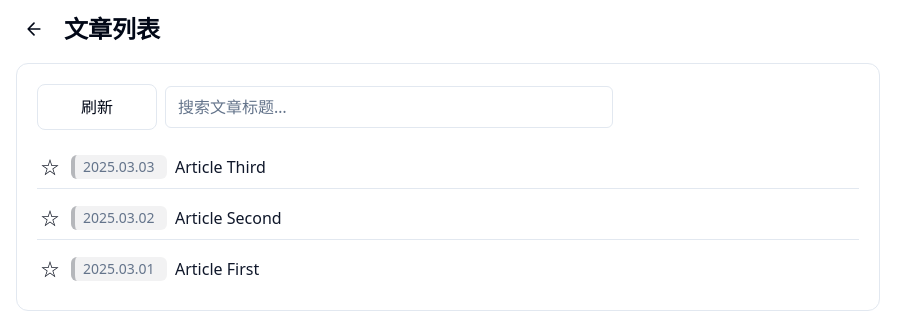
it: Article list interaction (S010) › Search filter (S021) › empty search shows all articles
The image size is (897, 328).
Expected: the link "Article First" is shown, [175,258,259,280]
In the search field labelled "搜索文章标题…": coordinates (389, 107) [165,86,613,128], type "Third"
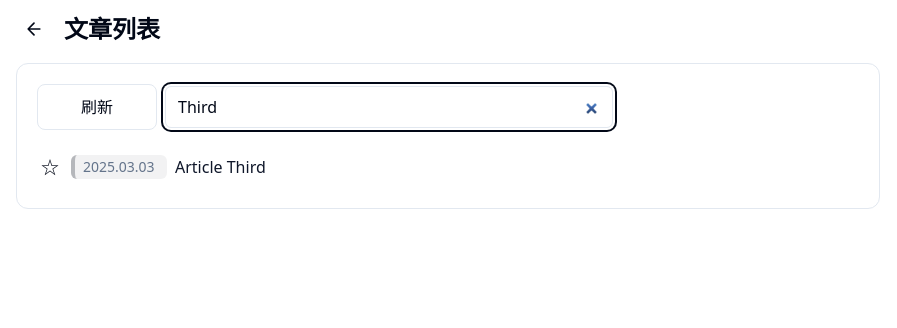
Now the link "Article First" is gone
Clear the search field named "搜索文章": coordinates (389, 107) [165,86,613,128]
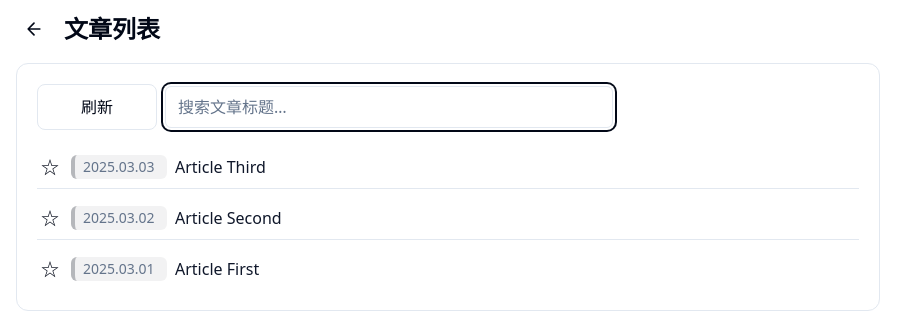
Expected: the link "Article Third" is shown, [175,156,266,178]
Now the link "Article First" is shown, box [175,258,259,280]
Now the link "Article Second" is shown, box [175,207,282,229]
